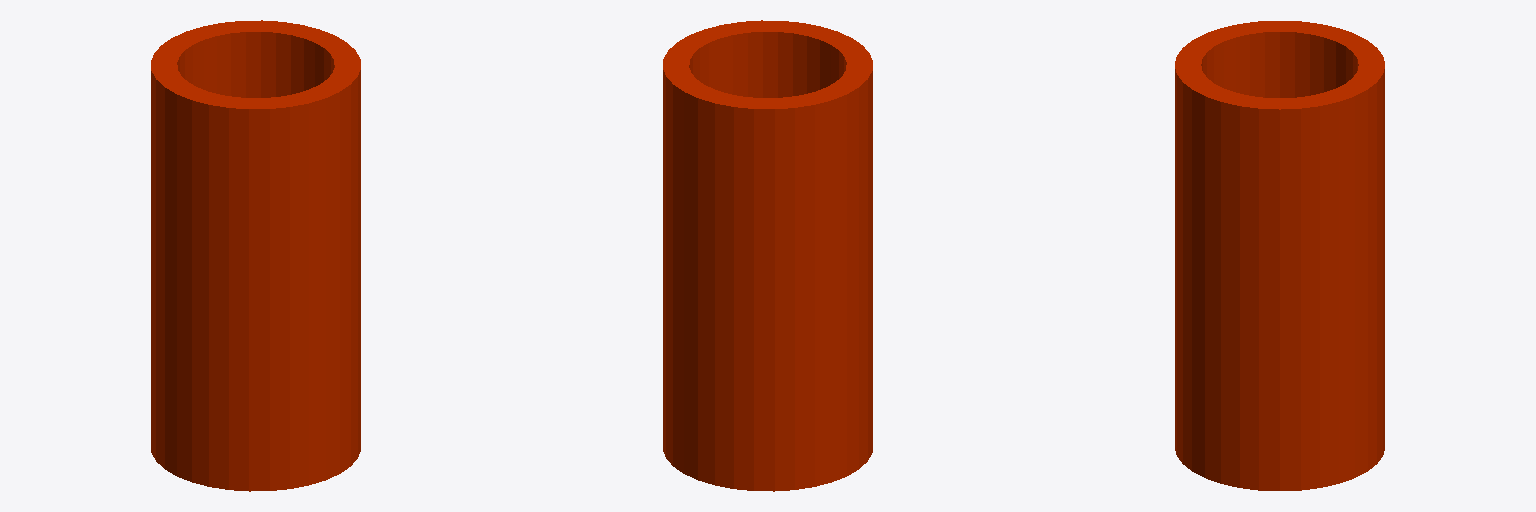
The robot description file, URDF, robot "cilinder":
<?xml version="1.0"?>
<robot name="cilinder">
  <link name="cilinder">
    <inertial>
      <mass value="1.0"/>
      <inertia ixx="1"
                 iyy="1"
                 izz="1"
                 ixy="0" iyz="0" ixz="0"/>
    </inertial>
    <visual>
      <geometry>
          <mesh filename="package://edo/meshes/visual/cilinder.dae" scale="0.05 0.05 0.1"/>
      </geometry>
    </visual>
    <collision>
      <geometry>
          <mesh filename="package://edo/meshes/visual/cilinder.dae" scale="0.05 0.05 0.1"/>
      </geometry>
    </collision>
  </link>
</robot>

--- Facts derived from the render (not from the file) ---
The picture shows the robot from 3 angles, left to right: view 1: azimuth 30°, elevation 25°; view 2: azimuth 150°, elevation 25°; view 3: azimuth 270°, elevation 25°; orthographic projection.
Model cilinder with 1 links and 0 joints (none), rooted at cilinder, posed every joint at zero.
Visible links, largest first — view 1: cilinder; view 2: cilinder; view 3: cilinder.
Boxes of the visible links, box(x1,y1,x2,y2) form: cilinder: box(151, 20, 360, 491); cilinder: box(663, 20, 872, 491); cilinder: box(1175, 21, 1384, 490).
Bounding box of the posed robot: 0.0251 × 0.0251 × 0.0501 m (x, y, z).
Meshes: 1 distinct files referenced, 1 mesh visuals loaded (1 Collada DAE).
